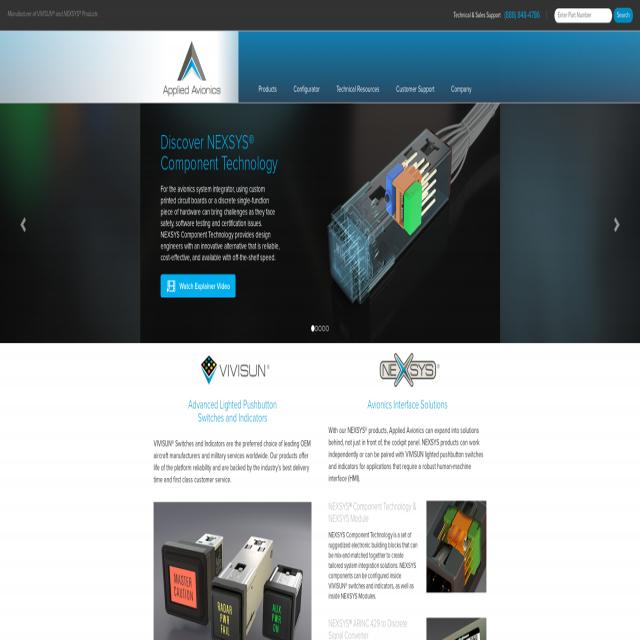button: (153, 502, 312, 640), (426, 500, 486, 592), (328, 32, 388, 102), (195, 343, 270, 398), (370, 343, 445, 398), (388, 32, 442, 102), (163, 41, 221, 97), (285, 32, 328, 102), (442, 32, 480, 102), (250, 32, 285, 102), (160, 274, 236, 297), (428, 616, 487, 640), (13, 198, 33, 252), (607, 209, 624, 243), (614, 8, 633, 24)
field: (555, 8, 612, 23)
